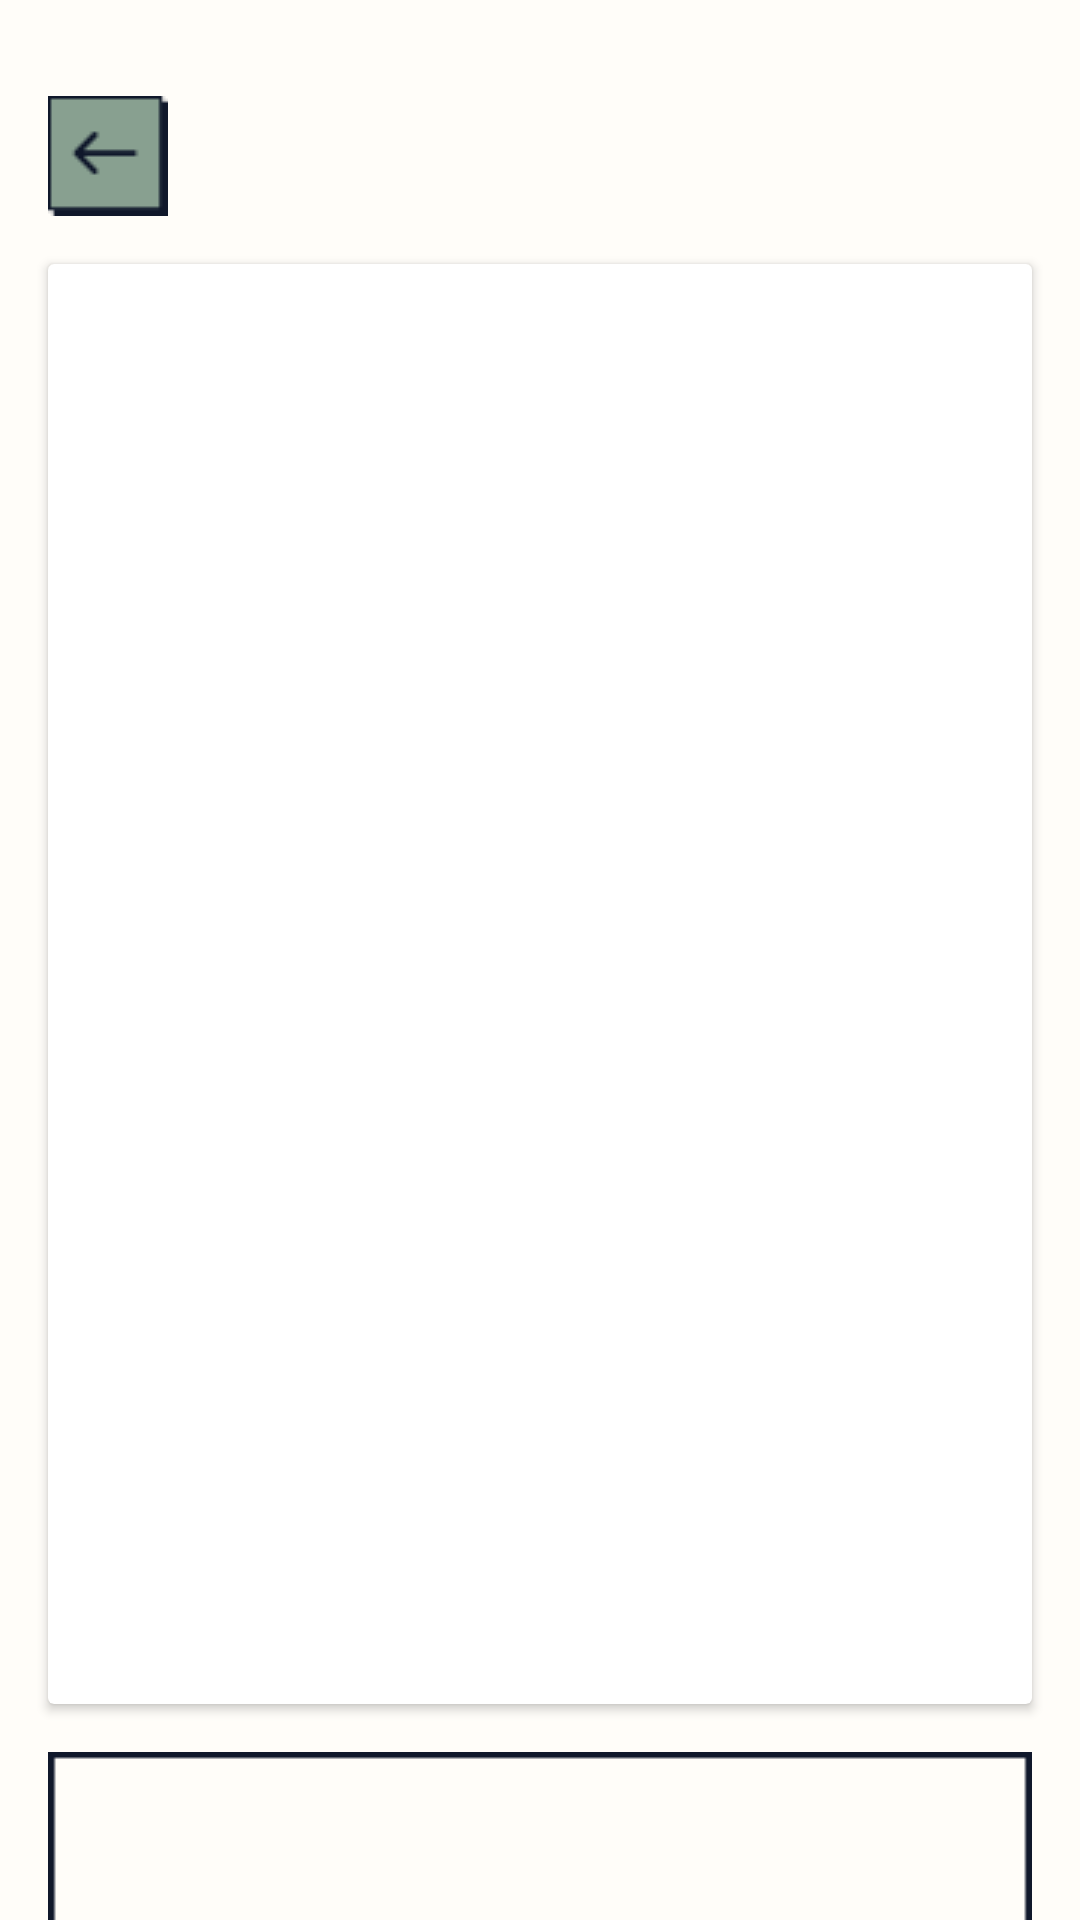

Named icons in this screenshot (1080x1920) and their bounding boxes, bbox=(x1, y1, x2, y2):
back: bbox=(48, 96, 168, 216)
